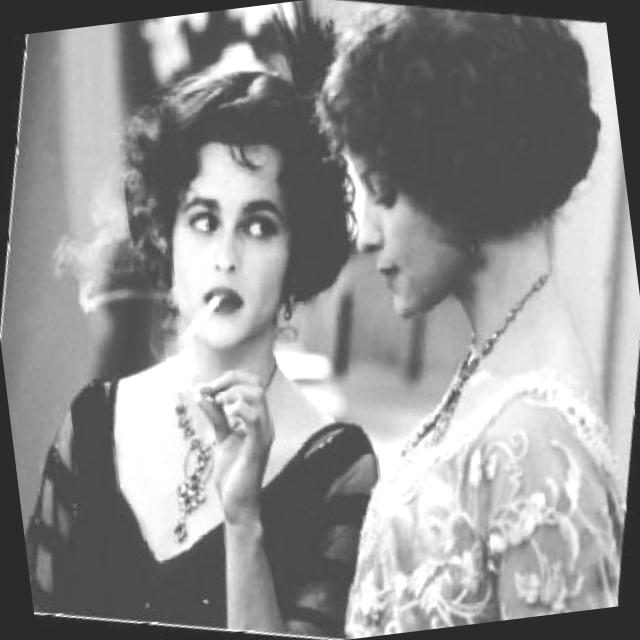smoke: (170, 286, 230, 355)
